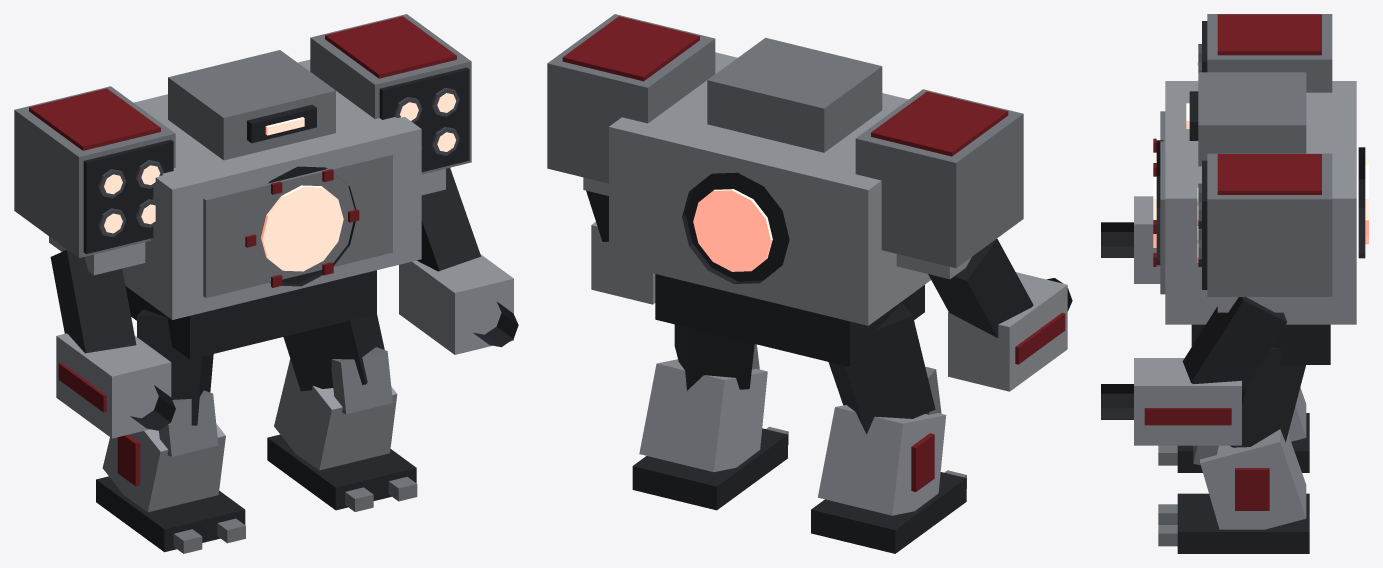
Rendered from shell.glb.
3 renders of one model, left to right at view 1: azimuth 30°, elevation 25°; view 2: azimuth 150°, elevation 25°; view 3: azimuth 270°, elevation 25°, orthographic. The views are drawn at different scales.
Visible parts, largest first — view 1: ShellHull, ShellGlow; view 2: ShellHull, ShellGlow; view 3: ShellHull, ShellGlow.
Part boxes in pixels (box(x1,y1,x2,y2)): ShellHull: box(14, 14, 518, 553); ShellGlow: box(104, 93, 455, 271); ShellHull: box(547, 14, 1072, 553); ShellGlow: box(693, 189, 772, 271); ShellHull: box(1101, 14, 1365, 553); ShellGlow: box(1153, 48, 1368, 262).
Bounding box in the file's own units: 2.62 × 2.51 × 1.54.
